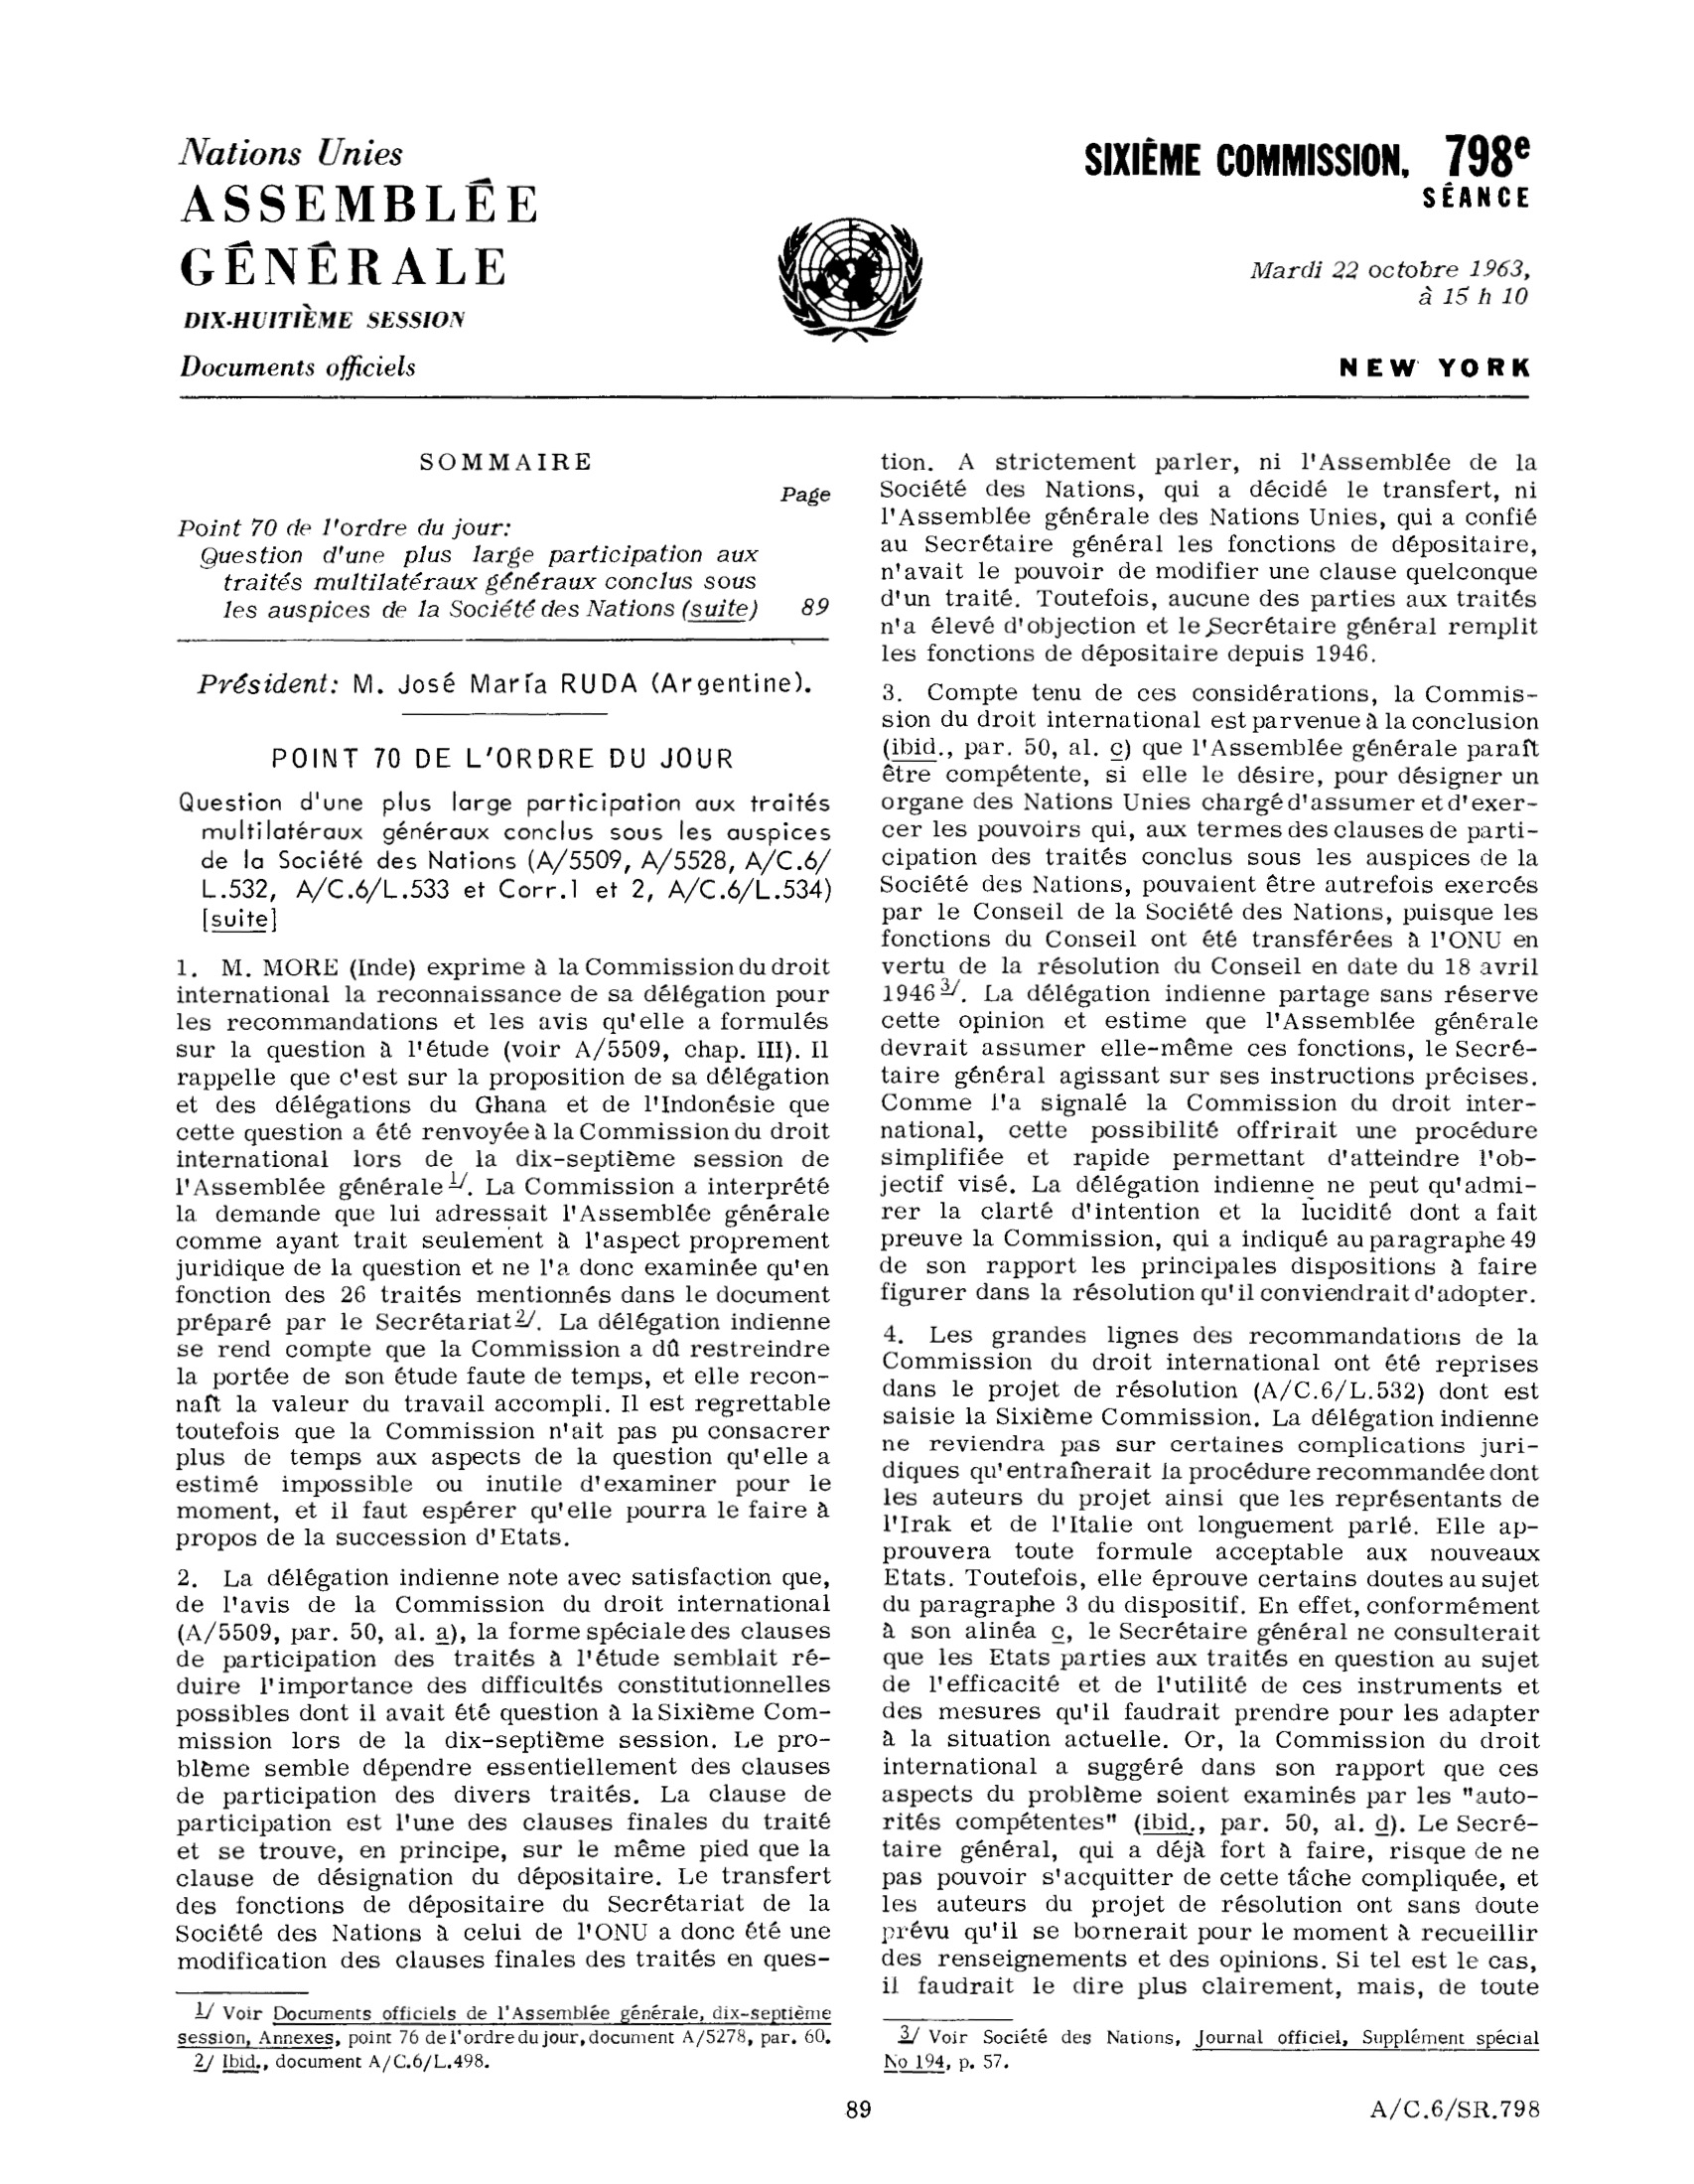GraphicZone: (773, 216, 925, 350)
MainZone-Continued: (869, 441, 1543, 670)
MainZone-Date: (1230, 237, 1540, 314)
MainZone-Head: (163, 123, 549, 389), (1073, 121, 1541, 222), (183, 661, 823, 704), (258, 735, 743, 779), (1311, 349, 1539, 396), (406, 438, 598, 486)
MainZone-ListItem: (874, 1314, 1551, 2005), (871, 673, 1551, 1305), (164, 950, 837, 1547), (163, 1559, 840, 1978)
MainZone-P: (167, 786, 840, 939)
MarginTextZone-Notes: (875, 2019, 1550, 2085), (163, 1997, 838, 2047), (183, 2050, 496, 2075)
NumberingZone: (1361, 2095, 1550, 2125), (836, 2093, 875, 2127)
TitlePageZone-Index: (165, 483, 844, 628)
